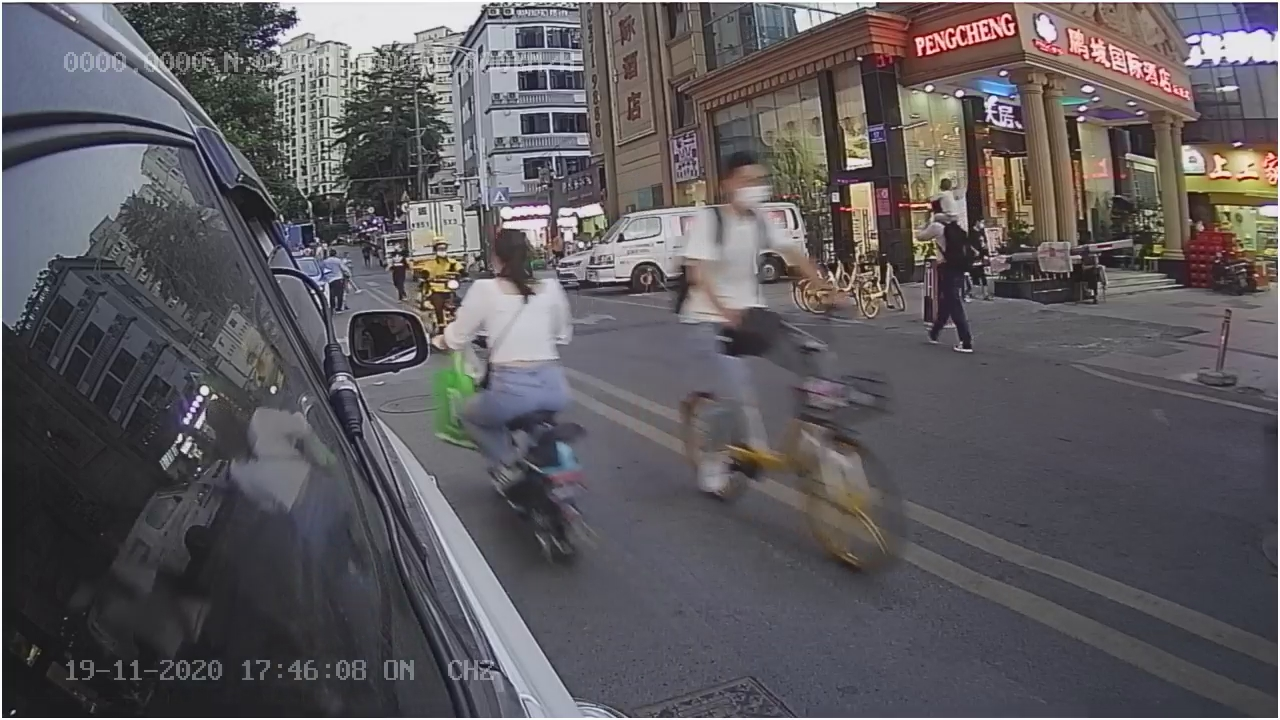person: (446, 228, 576, 433), (681, 166, 808, 346)
